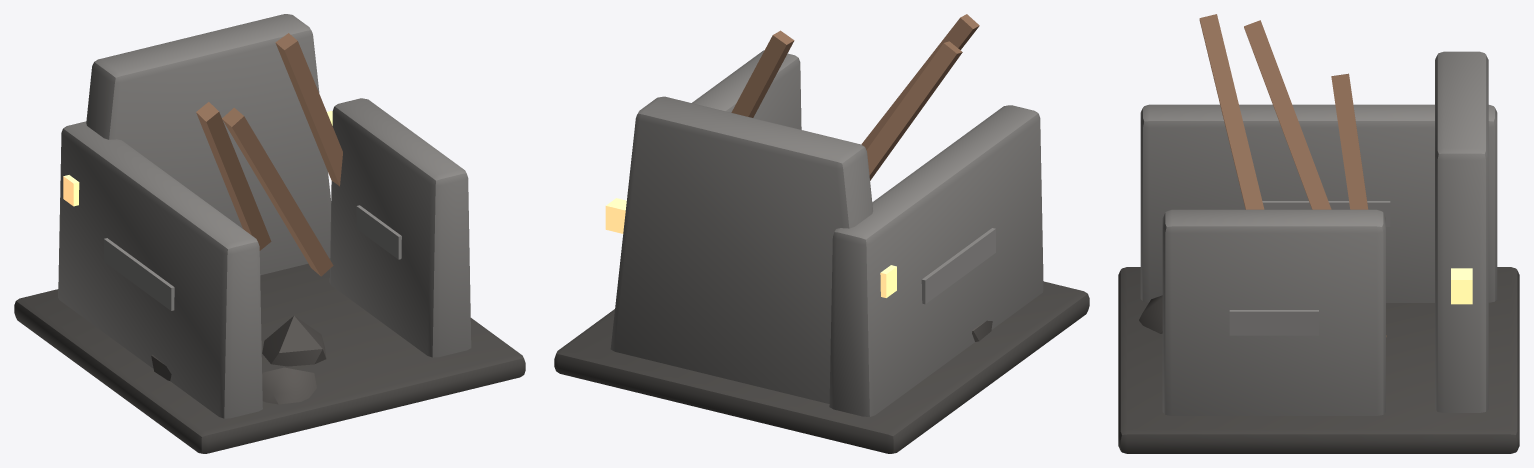
The model's file is prop_ruin.glb.
The picture shows the model from 3 angles, left to right: view 1: azimuth 30°, elevation 25°; view 2: azimuth 150°, elevation 25°; view 3: azimuth 270°, elevation 25°; orthographic projection. The views are drawn at different scales.
Visible parts, largest first — view 1: prop_ruin; view 2: prop_ruin; view 3: prop_ruin.
Boxes of the visible parts, <box> form: prop_ruin: <box>14,14,525,453</box>; prop_ruin: <box>554,14,1089,453</box>; prop_ruin: <box>1118,14,1519,453</box>.
Size of the model in its own units: 0.9 by 0.819 by 0.9.
